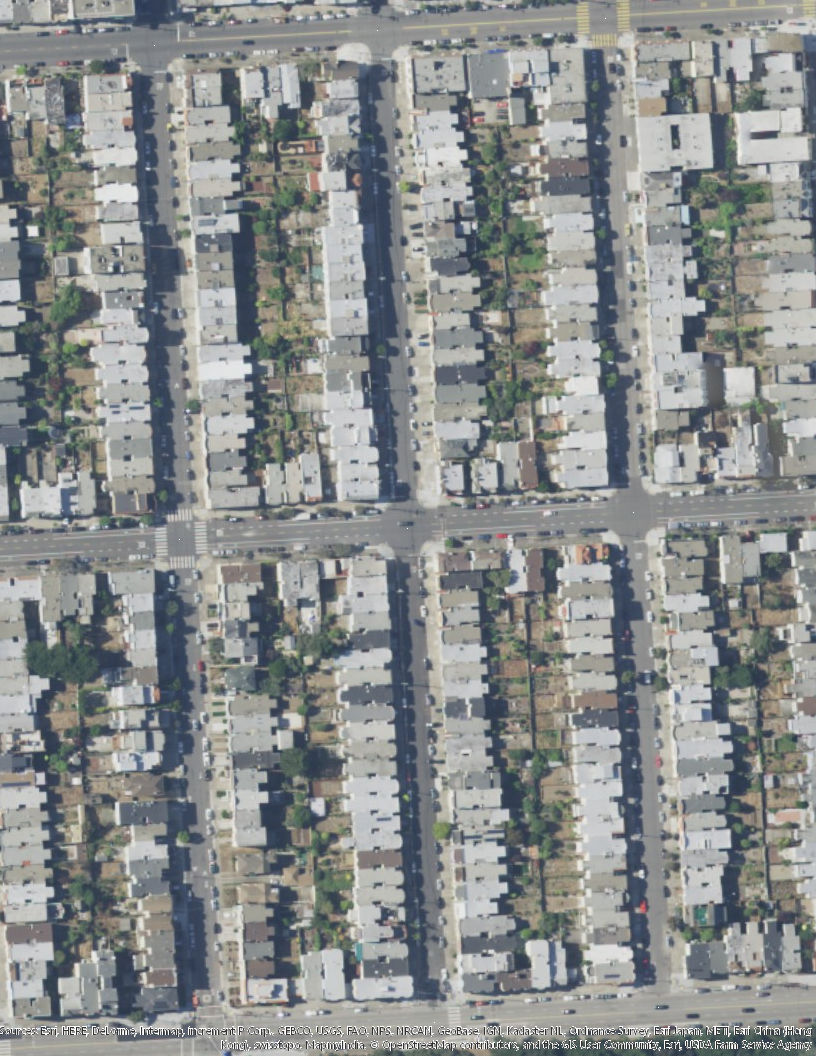zebracross: (615, 1, 632, 32), (194, 522, 208, 555), (576, 2, 590, 34), (153, 527, 167, 557), (589, 33, 619, 47), (166, 509, 193, 524), (170, 554, 196, 569), (448, 1005, 461, 1027), (803, 1, 816, 17)
